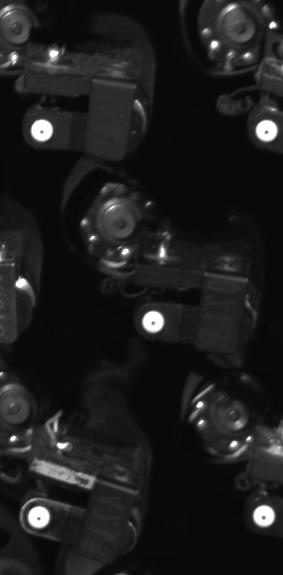fiber: (250, 113, 282, 149), (24, 503, 57, 535), (26, 116, 60, 147), (248, 500, 279, 532), (139, 308, 168, 338)
